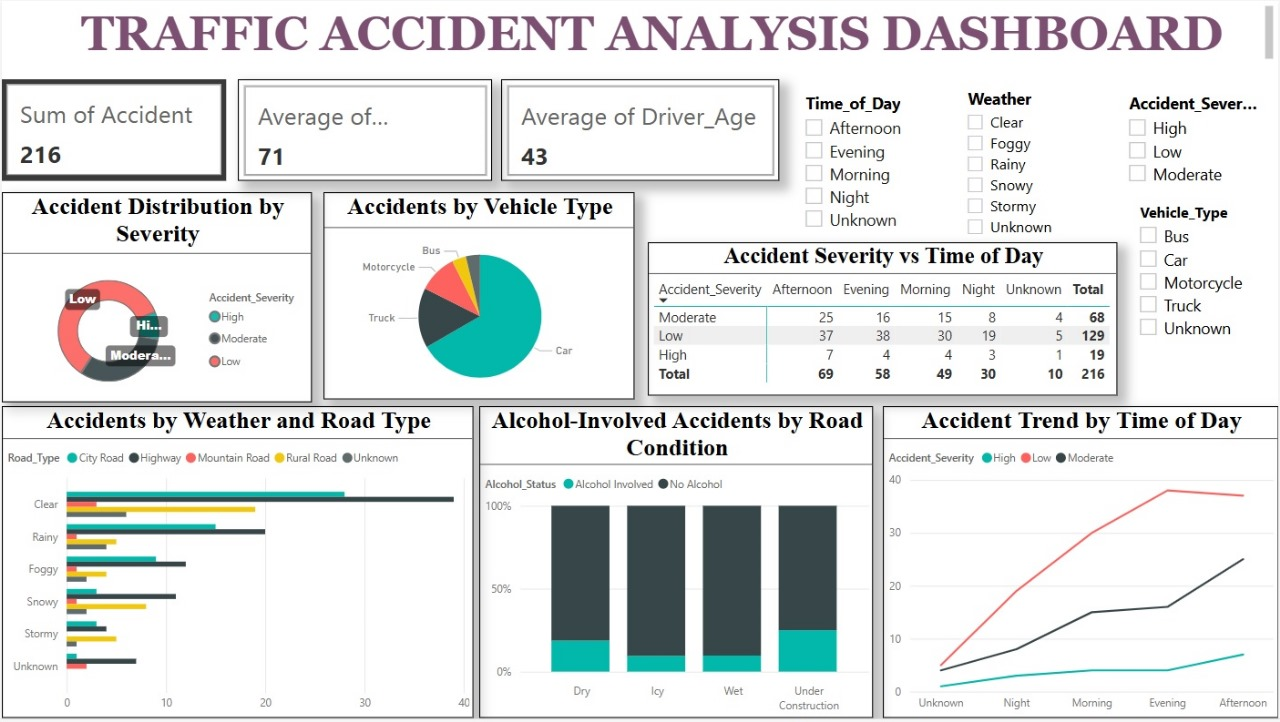

The dashboard page shown, as its layout file describes it:
{"tool":"powerbi","page":{"name":"Page 1","canvas":[1280,720],"ordinal":0},"visuals":[{"type":"cardVisual","fields":{"Data":["Sum(traffic_accident_prediction.Accident)"]},"box":[0,78.9,225.1,101.7],"z":0},{"type":"cardVisual","title":"Average Speed_Limit","fields":{"Data":["Avg(traffic_accident_prediction.Speed_Limit)"]},"box":[236.6,78.9,254.9,101.7],"z":1000},{"type":"cardVisual","fields":{"Data":["Avg(traffic_accident_prediction.Driver_Age)"]},"box":[500.6,78.9,278.9,101.7],"z":2000},{"type":"donutChart","title":"Accident Distribution by Severity","fields":{"Category":["traffic_accident_prediction.Accident_Severity"],"Y":["Sum(traffic_accident_prediction.Accident)"]},"box":[0,192,310.9,211.4],"z":3000},{"type":"pieChart","title":"Accidents by Vehicle Type","fields":{"Category":["traffic_accident_prediction.Vehicle_Type"],"Y":["Sum(traffic_accident_prediction.Accident)"]},"box":[322.3,192,312,208],"z":4000},{"type":"clusteredBarChart","title":"Accidents by Weather and Road Type","fields":{"Category":["traffic_accident_prediction.Weather"],"Y":["Sum(traffic_accident_prediction.Accident)"],"Series":["traffic_accident_prediction.Road_Type"]},"box":[0,406.9,473.1,313.1],"z":5000},{"type":"hundredPercentStackedColumnChart","title":"Alcohol-Involved Accidents by Road Condition","fields":{"Category":["traffic_accident_prediction.Road_Condition"],"Series":["traffic_accident_prediction.Alcohol_Status"],"Y":["Sum(traffic_accident_prediction.Accident)"]},"box":[478.9,406.9,395.4,313.1],"z":6000},{"type":"lineChart","title":"Accident Trend by Time of Day","fields":{"Y":["Sum(traffic_accident_prediction.Accident)"],"Series":["traffic_accident_prediction.Accident_Severity"],"Category":["traffic_accident_prediction.Time_of_Day"]},"box":[883.4,406.9,396.6,313.1],"z":7000},{"type":"pivotTable","title":"Accident Severity vs Time of Day","fields":{"Rows":["traffic_accident_prediction.Accident_Severity"],"Columns":["traffic_accident_prediction.Time_of_Day"],"Values":["Sum(traffic_accident_prediction.Accident)"]},"box":[648,242.3,470.9,154.3],"z":8000},{"type":"slicer","fields":{"Values":["traffic_accident_prediction.Time_of_Day"]},"box":[793.1,86.9,162.3,149.7],"z":9000},{"type":"slicer","fields":{"Values":["traffic_accident_prediction.Weather"]},"box":[955.4,82.3,163.4,160],"z":10000},{"type":"textbox","box":[32.3,0,1248,63.7],"z":11000},{"type":"slicer","fields":{"Values":["traffic_accident_prediction.Accident_Severity"]},"box":[1117.7,86.9,162.3,109.7],"z":12000},{"type":"slicer","fields":{"Values":["traffic_accident_prediction.Vehicle_Type"]},"box":[1128,196.2,140.9,154.4],"z":13000}]}

Visuals, with their boxes in screenshot pixels (x1, y1, x2, y2), scaled from the page's 1280x720 canvas onto the 1280x722 screenshot:
cardVisual - Sum(traffic_accident_prediction.Accident): box(0, 79, 225, 181)
"Average Speed_Limit" cardVisual: box(237, 79, 492, 181)
cardVisual - Avg(traffic_accident_prediction.Driver_Age): box(501, 79, 780, 181)
"Accident Distribution by Severity" donutChart: box(0, 193, 311, 405)
"Accidents by Vehicle Type" pieChart: box(322, 193, 634, 401)
"Accidents by Weather and Road Type" clusteredBarChart: box(0, 408, 473, 721)
"Alcohol-Involved Accidents by Road Condition" hundredPercentStackedColumnChart: box(479, 408, 874, 721)
"Accident Trend by Time of Day" lineChart: box(883, 408, 1279, 721)
"Accident Severity vs Time of Day" pivotTable: box(648, 243, 1119, 398)
slicer - traffic_accident_prediction.Time_of_Day: box(793, 87, 955, 237)
slicer - traffic_accident_prediction.Weather: box(955, 83, 1119, 243)
textbox: box(32, 0, 1279, 64)
slicer - traffic_accident_prediction.Accident_Severity: box(1118, 87, 1279, 197)
slicer - traffic_accident_prediction.Vehicle_Type: box(1128, 197, 1269, 352)
